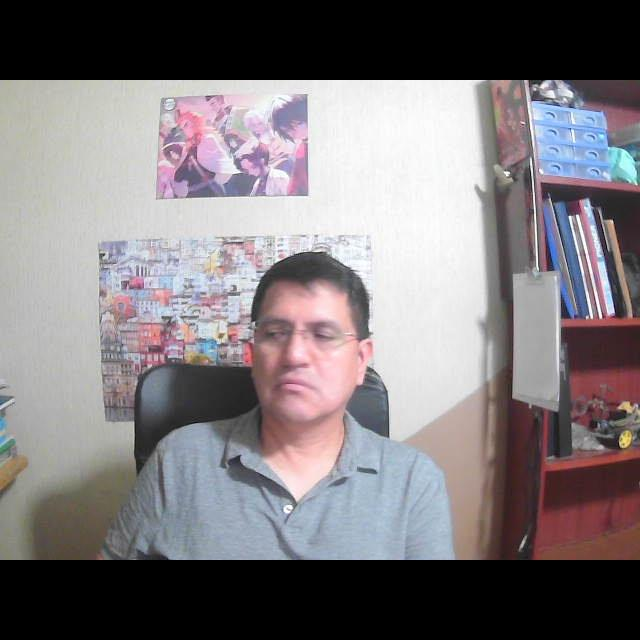cesar: (229, 236, 391, 448)
